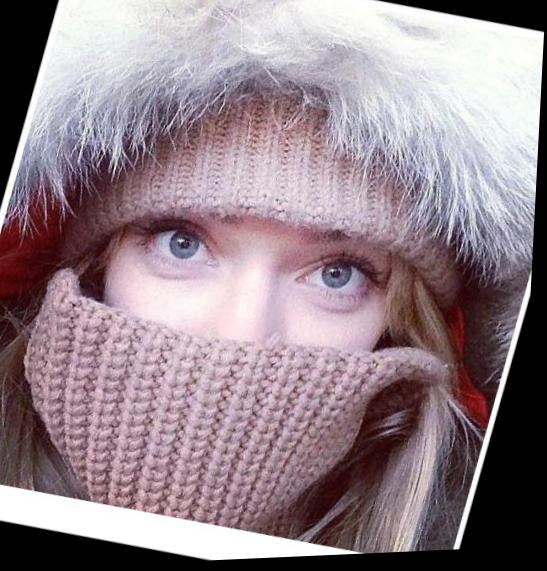WRONG: (55, 179, 419, 541)
